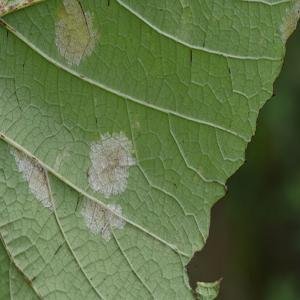Folha: (0, 0, 298, 298)
Fungo: (8, 142, 106, 298), (86, 130, 137, 200), (53, 0, 100, 68), (9, 144, 53, 211), (80, 196, 126, 242), (80, 196, 106, 236), (100, 202, 126, 242), (0, 0, 44, 17)
